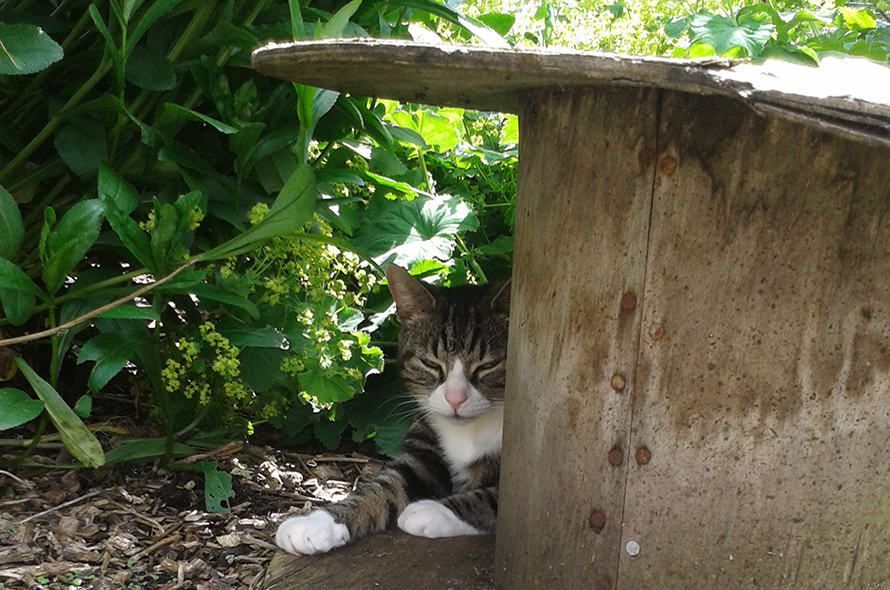cat: (279, 262, 513, 562)
